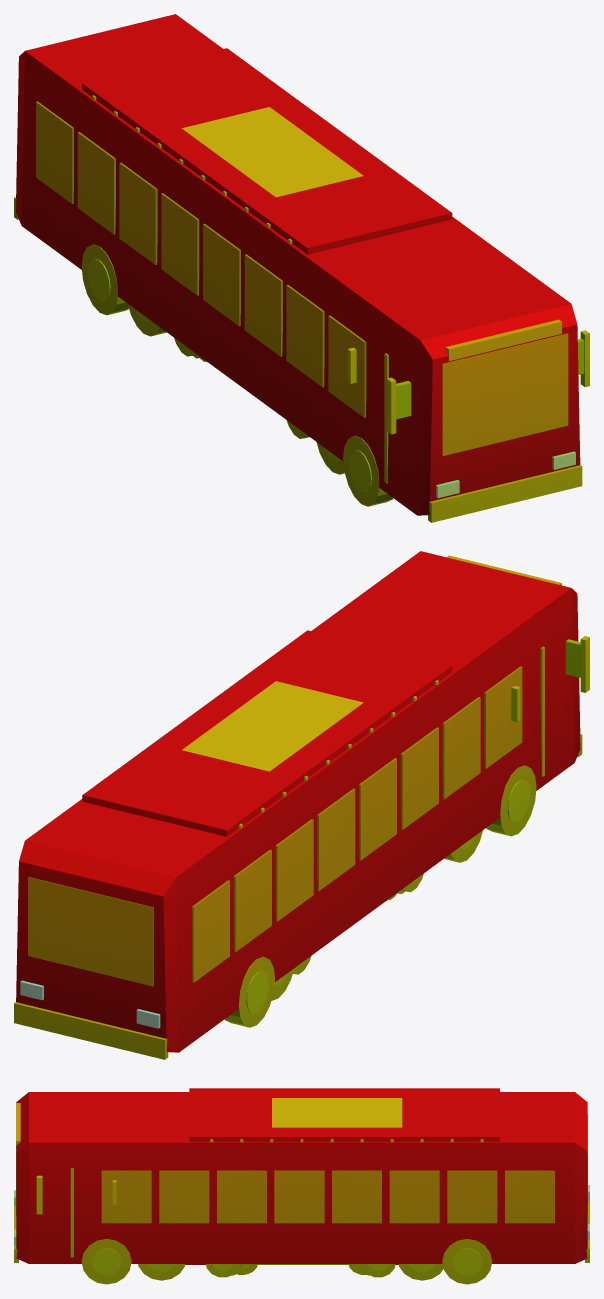
The model's file is vehicles.glb.
3 renders of one model, top to bottom at view 1: azimuth 30°, elevation 25°; view 2: azimuth 150°, elevation 25°; view 3: azimuth 270°, elevation 25°, orthographic. The views are drawn at different scales.
Visible parts, largest first — view 1: vehicles__bus__LOD0, vehicles__lorry__LOD0; view 2: vehicles__bus__LOD0, vehicles__lorry__LOD0; view 3: vehicles__bus__LOD0, vehicles__lorry__LOD0, vehicles__pickup__LOD0.
Part boxes in pixels (x1,y1,x2,y2): vehicles__bus__LOD0: (14, 14, 589, 522); vehicles__lorry__LOD0: (82, 48, 452, 474); vehicles__bus__LOD0: (14, 551, 589, 1059); vehicles__lorry__LOD0: (82, 630, 520, 1000); vehicles__bus__LOD0: (14, 1092, 589, 1284); vehicles__lorry__LOD0: (112, 1088, 499, 1280); vehicles__pickup__LOD0: (185, 1264, 398, 1277).
Size of what is drawn, in the model's own units: 3.16 by 3.2 by 11.5.
